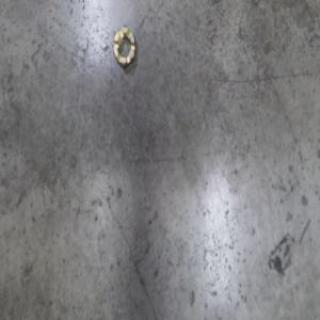Nuttrack_idkeyframe: (111, 24, 136, 69)
